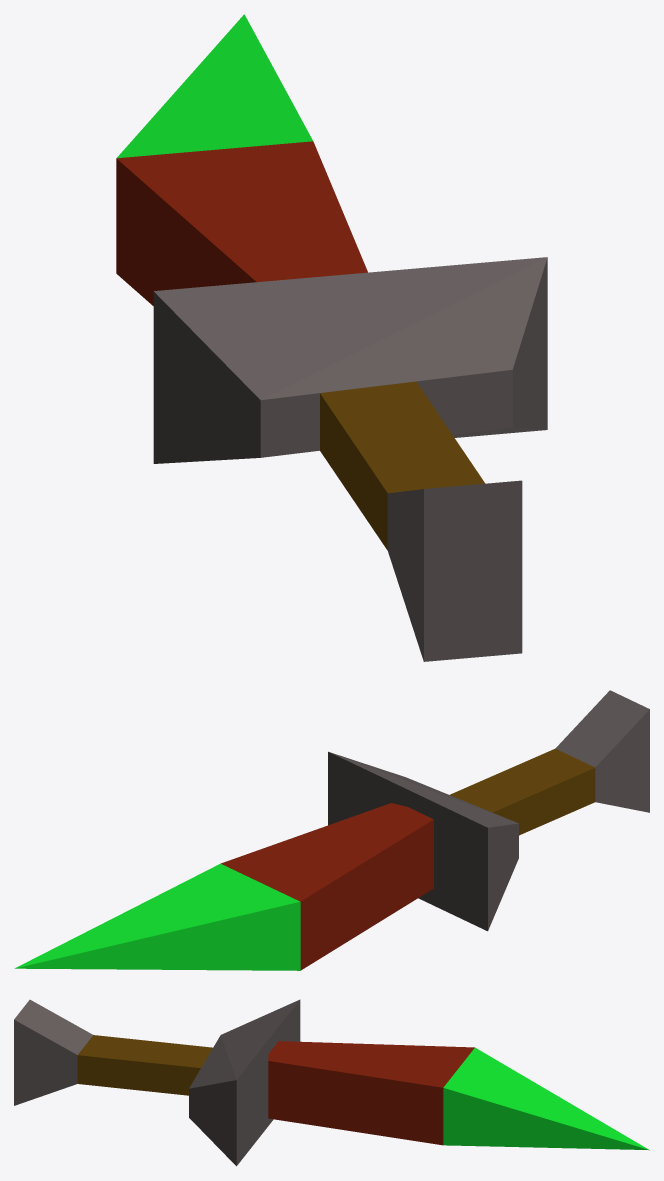
The model's file is inv_dragon_dagger_p.obj.
3 views of the same model, one above another, from view 1: azimuth 30°, elevation 25°; view 2: azimuth 150°, elevation 25°; view 3: azimuth 270°, elevation 25° (orthographic). The views are drawn at different scales.
Bounding box in the file's own units: 0.125 × 0.0469 × 0.3125.
